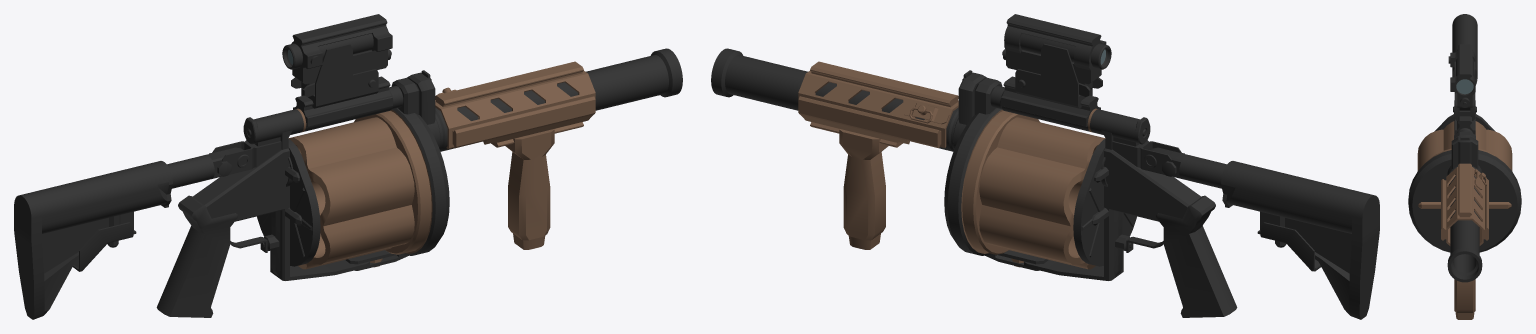
Rendered from mgl.fbx.
3 views of the same model, side by side, from view 1: azimuth 30°, elevation 25°; view 2: azimuth 150°, elevation 25°; view 3: azimuth 270°, elevation 25° (orthographic). The views are drawn at different scales.
Parts seen in each view (by area): view 1: stvol, fx_tir, baraban, pkirlad, scope; view 2: stvol, fx_tir, baraban, pkirlad, scope; view 3: stvol, baraban, scope, pkirlad, fx_tir.
Boxes of the visible parts, <box> form: stvol: <box>293,48,682,270</box>; fx_tir: <box>156,43,378,317</box>; baraban: <box>288,110,431,269</box>; pkirlad: <box>14,147,243,319</box>; scope: <box>282,14,392,96</box>; stvol: <box>711,48,1100,270</box>; fx_tir: <box>1015,43,1237,317</box>; baraban: <box>962,110,1105,269</box>; pkirlad: <box>1150,147,1379,319</box>; scope: <box>1002,14,1111,96</box>; stvol: <box>1408,100,1521,319</box>; baraban: <box>1417,121,1512,170</box>; scope: <box>1448,44,1475,110</box>; pkirlad: <box>1452,14,1477,85</box>; fx_tir: <box>1434,61,1495,131</box>.
Size of the model in its own units: 0.9197 by 0.1924 by 0.3568.
3 materials, 3 textured.
